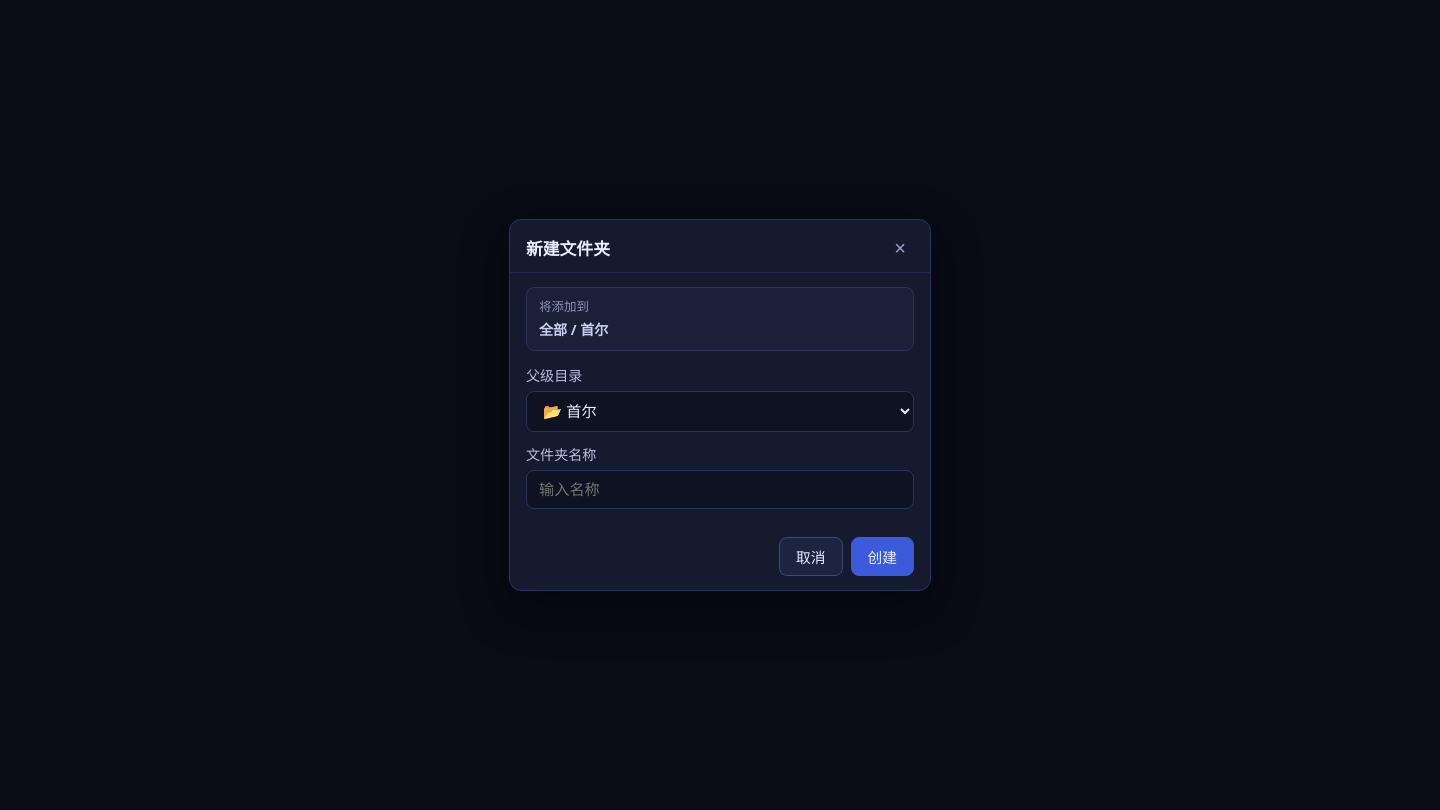
Test: CreateFolderDialog › 显示当前父级路径并支持切换
The image size is (1440, 810).
expect the text with class "cfd-location-path" reads "全部 / 首尔": met, box [539,320,608,339]
Select "📂 江南" in the dropdown with id "cfd-parent" at (720, 412), box [526,391,914,432]
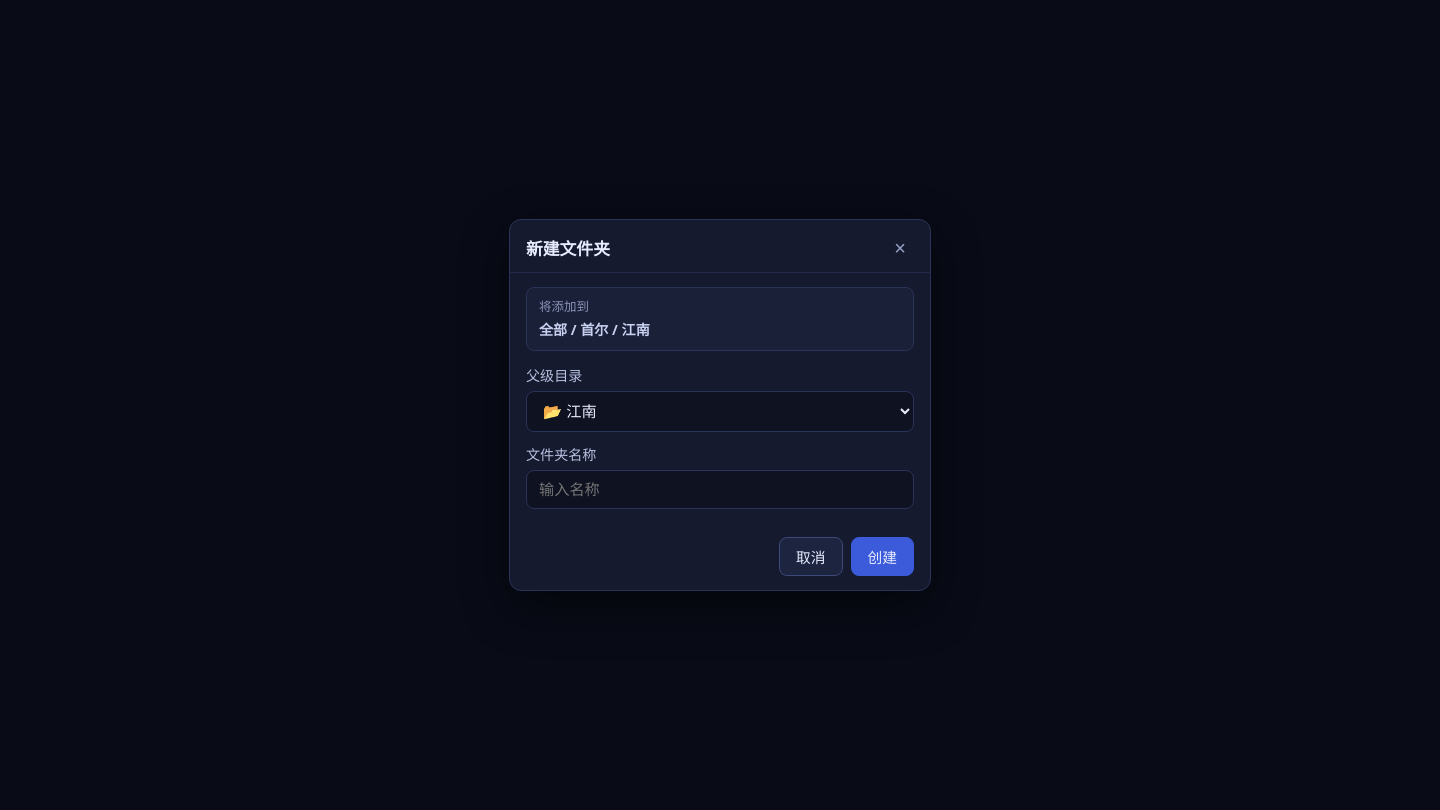
expect the text with class "cfd-location-path" reads "全部 / 首尔 / 江南": met, box [539,320,650,339]
